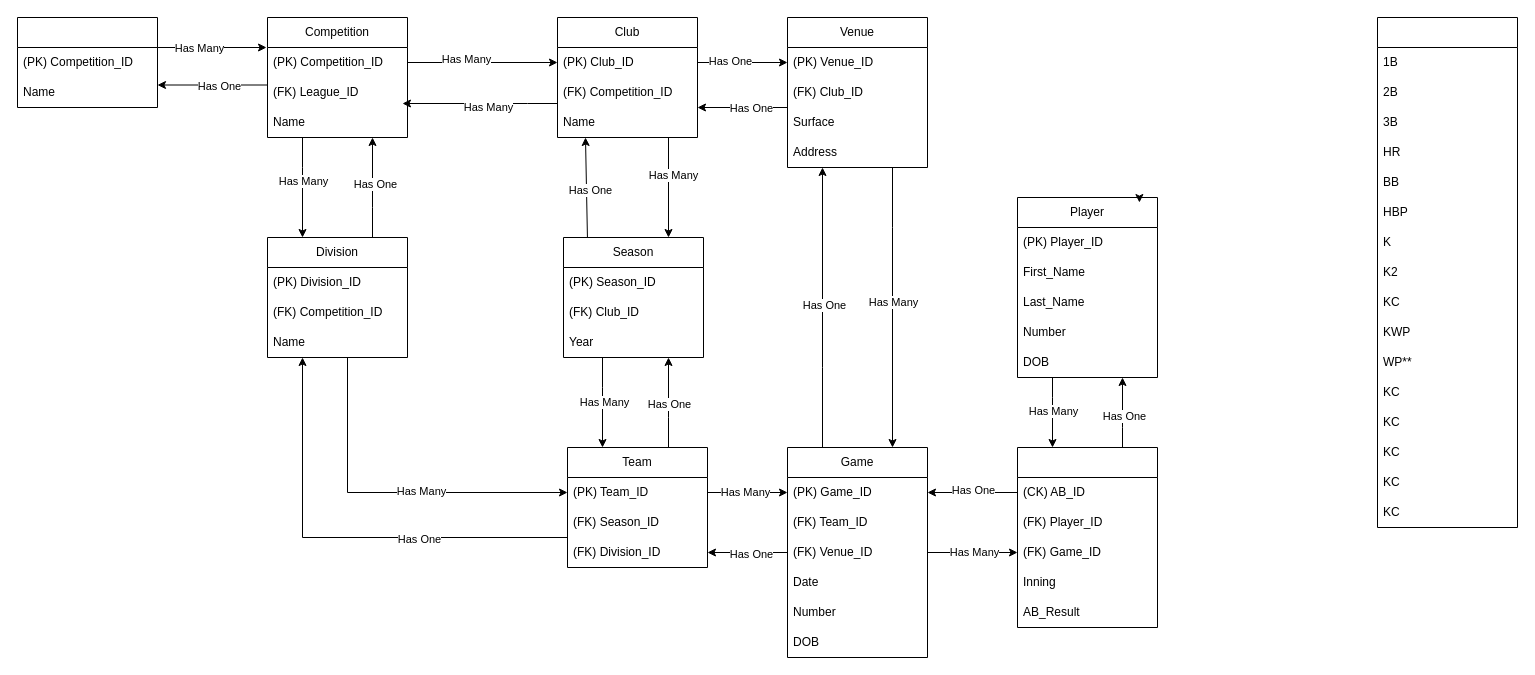
The diagram is 1535 pixels wide and 675 high, and some of its shapes have lost their labels. Here are the shapes that lost their labels. From the top down, the box of each, then its label:
(16, 16, 158, 108): League
(1376, 16, 1518, 528): AB_Results
(1016, 446, 1158, 628): At Bat
